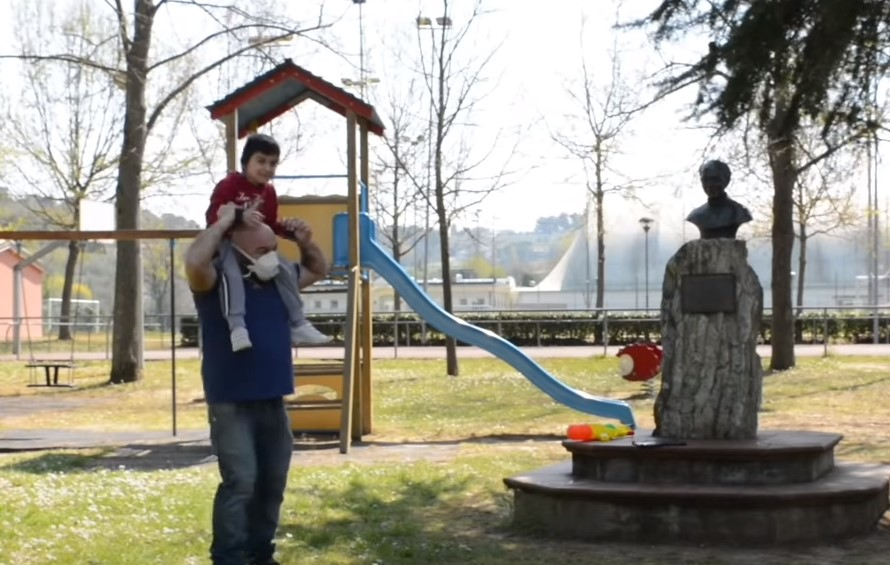face_no_mask: (237, 130, 282, 183)
face_with_mask: (220, 217, 289, 285)
